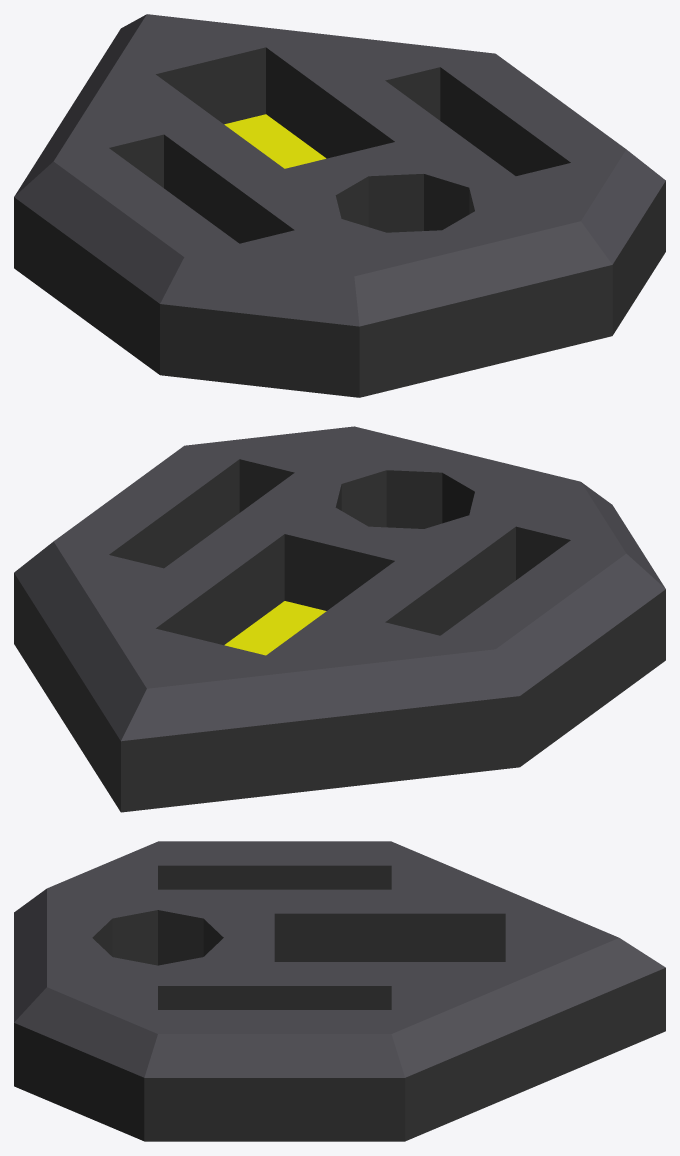
Rendered from Msh_Socket_XFemale.FBX.
3 views of the same model, one above another, from view 1: azimuth 30°, elevation 25°; view 2: azimuth 150°, elevation 25°; view 3: azimuth 270°, elevation 25° (orthographic). The views are drawn at different scales.
Parts seen in each view (by area): view 1: Msh_Socket_FemXLow; view 2: Msh_Socket_FemXLow; view 3: Msh_Socket_FemXLow.
Part boxes in pixels (<box>): Msh_Socket_FemXLow: <box>14,14,665,397</box>; Msh_Socket_FemXLow: <box>14,426,665,812</box>; Msh_Socket_FemXLow: <box>14,841,665,1141</box>.
Size of the model in its own units: 0.0201 by 0.0252 by 0.00398.
